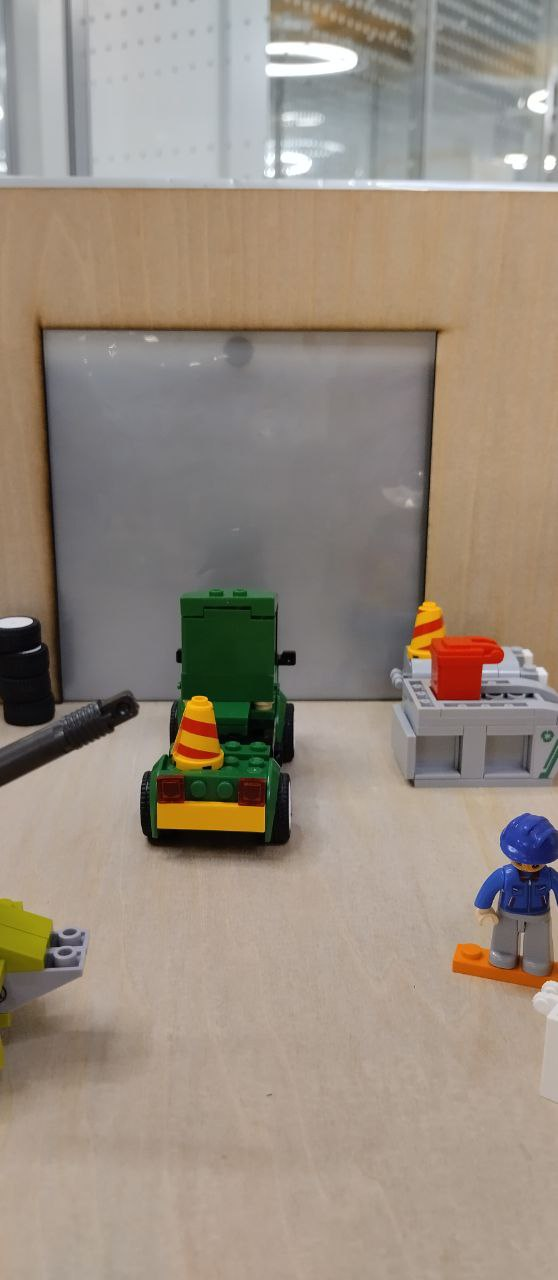Cone: (172, 694, 226, 774), (403, 601, 445, 664)
Object Red: (431, 637, 505, 703)
Truck: (139, 583, 297, 851)
